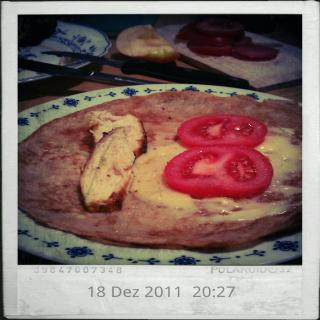Tomato: (161, 148, 280, 205), (177, 114, 267, 148)
